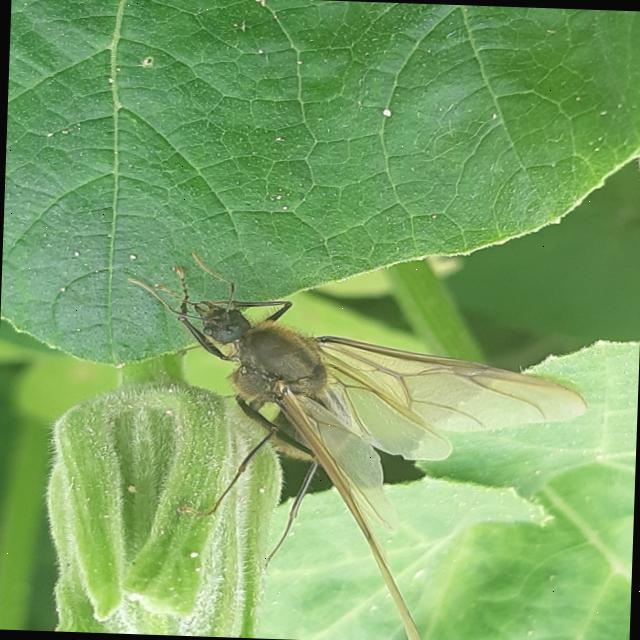Alive-Male-Alate: (113, 251, 592, 640)
